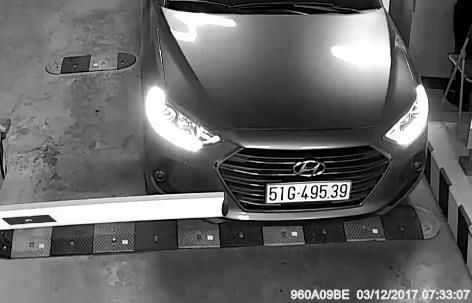License-plate: (261, 178, 354, 211)
